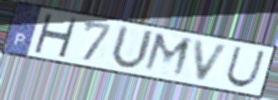7: (81, 19, 115, 63)
H: (31, 12, 79, 60)
M: (141, 30, 196, 80)
U: (108, 23, 156, 71), (224, 45, 268, 89)
V: (193, 38, 233, 84)
